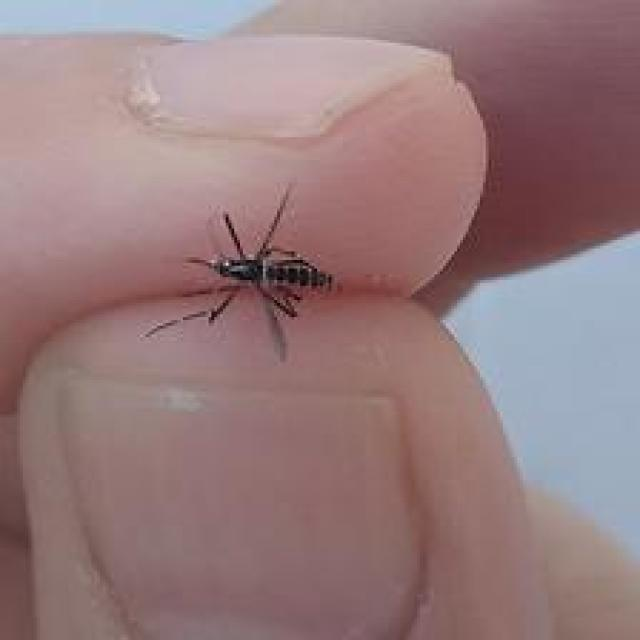Aedes albopictus: (140, 180, 340, 363)
